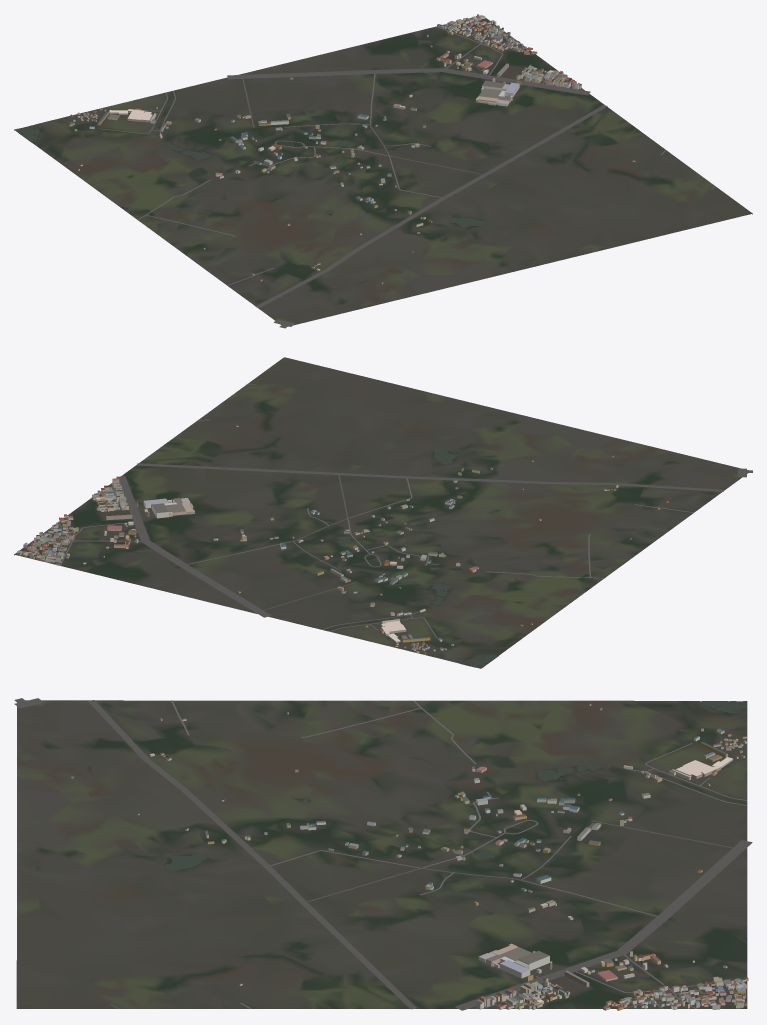
The picture shows the model from 3 angles, top to bottom: view 1: azimuth 30°, elevation 25°; view 2: azimuth 150°, elevation 25°; view 3: azimuth 270°, elevation 25°; orthographic projection. The views are drawn at different scales.
Parts seen in each view (by area): view 1: ground, buildings, roads, water; view 2: ground, buildings, roads, water; view 3: ground, buildings, roads, water.
Part boxes in pixels (bbox=[...]): ground: bbox=[14, 18, 752, 326]; buildings: bbox=[69, 14, 635, 283]; roads: bbox=[99, 26, 715, 328]; water: bbox=[18, 39, 488, 228]; ground: bbox=[14, 357, 747, 668]; buildings: bbox=[17, 425, 668, 654]; roads: bbox=[33, 384, 752, 637]; water: bbox=[75, 448, 496, 666]; ground: bbox=[16, 700, 747, 1008]; buildings: bbox=[71, 703, 748, 1010]; roads: bbox=[14, 698, 752, 1010]; water: bbox=[163, 701, 746, 987].
Bounding box in the file's own units: 1420 × 20.23 × 1418.
